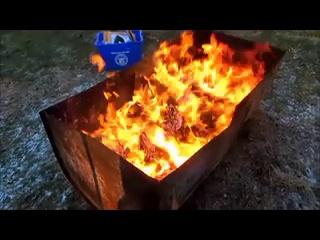Fire: (128, 50, 221, 150)
